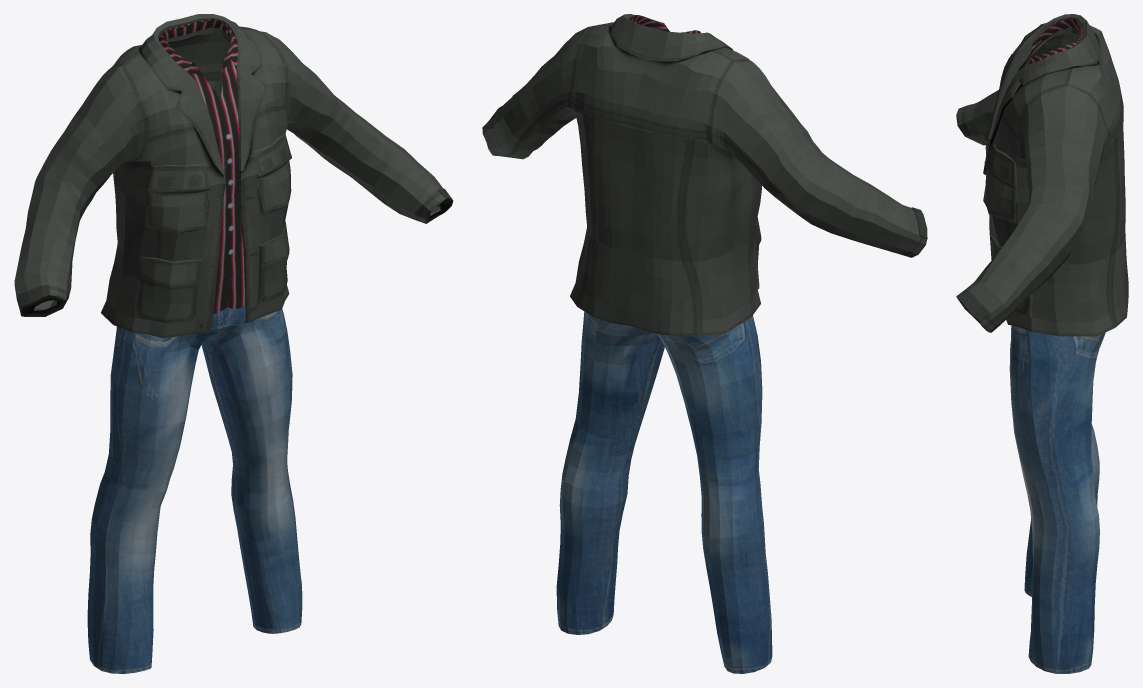
File: garment.glb
The picture shows the model from 3 angles, left to right: view 1: azimuth 30°, elevation 25°; view 2: azimuth 150°, elevation 25°; view 3: azimuth 270°, elevation 25°; orthographic projection. The views are drawn at different scales.
Visible parts, largest first — view 1: garment; view 2: garment; view 3: garment.
Part boxes in pixels (x1,y1,x2,y2): garment: (14, 14, 453, 673); garment: (482, 14, 927, 673); garment: (956, 14, 1128, 673).
Size of the model in its own units: 10.81 by 14.74 by 3.84.
Materials: 1 (1 with a texture image).
